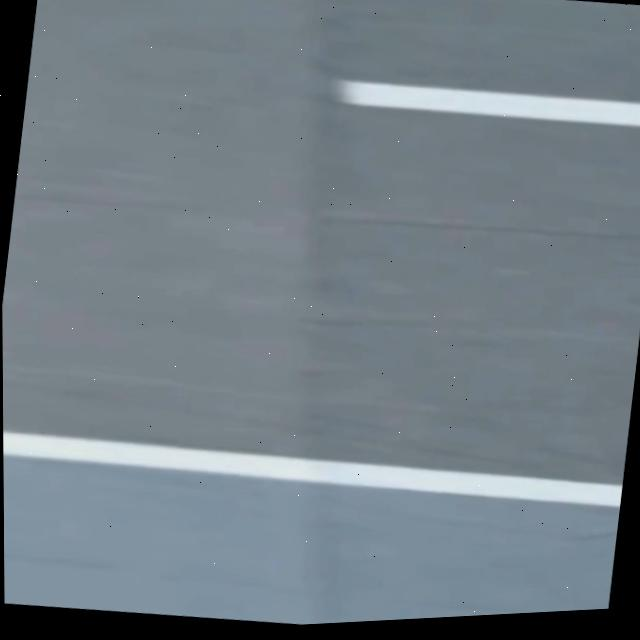center: (336, 80, 640, 127)
left: (3, 431, 622, 506)
